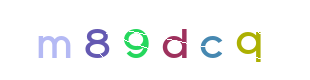8: (96, 0, 176, 80)
9: (96, 0, 176, 80)
C: (136, 0, 216, 80)
D: (115, 0, 195, 80)
M: (49, 0, 129, 80)
Q: (211, 0, 291, 80)
